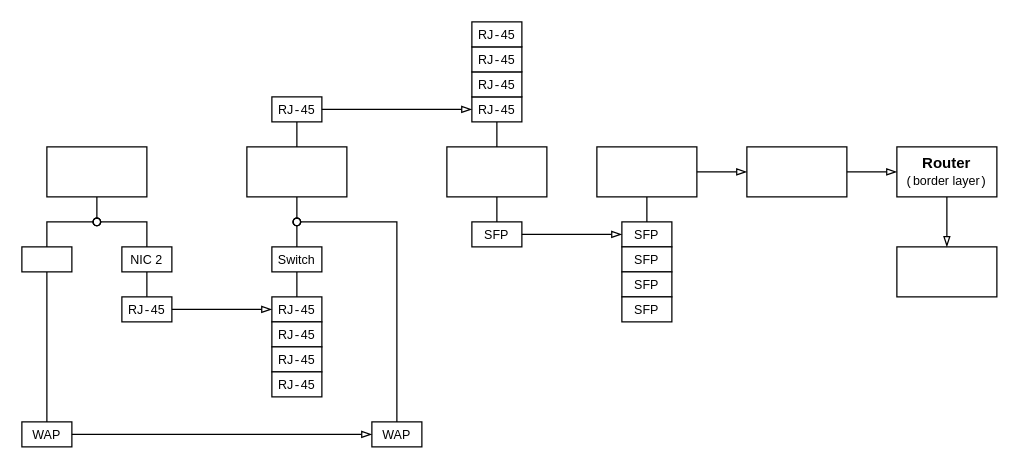
Some shapes in this 1019 by 469 pixel diagram are drawn without their labels. Here are the shapes that lost their labels. From the top down, the box of each, then its label:
(46, 146, 147, 197): Device
(246, 146, 347, 197): Router
(446, 146, 547, 197): Switch ( access layer )
(596, 146, 697, 197): Switch ( group layer )
(746, 146, 847, 197): Router ( core layer )
(21, 246, 72, 272): NIC 1
(896, 246, 997, 297): IXP
